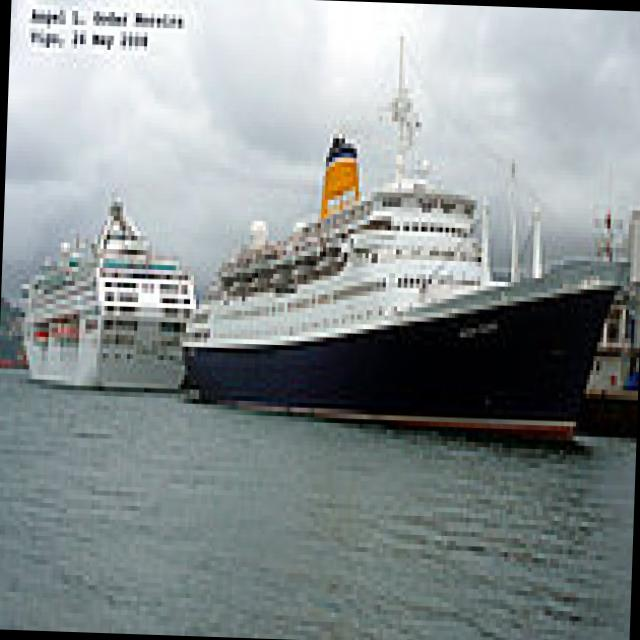boat: (179, 250, 627, 474), (14, 238, 195, 405)
